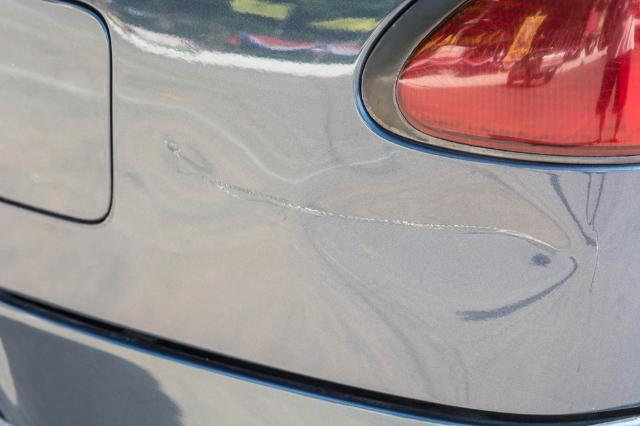dent: (135, 118, 571, 330)
